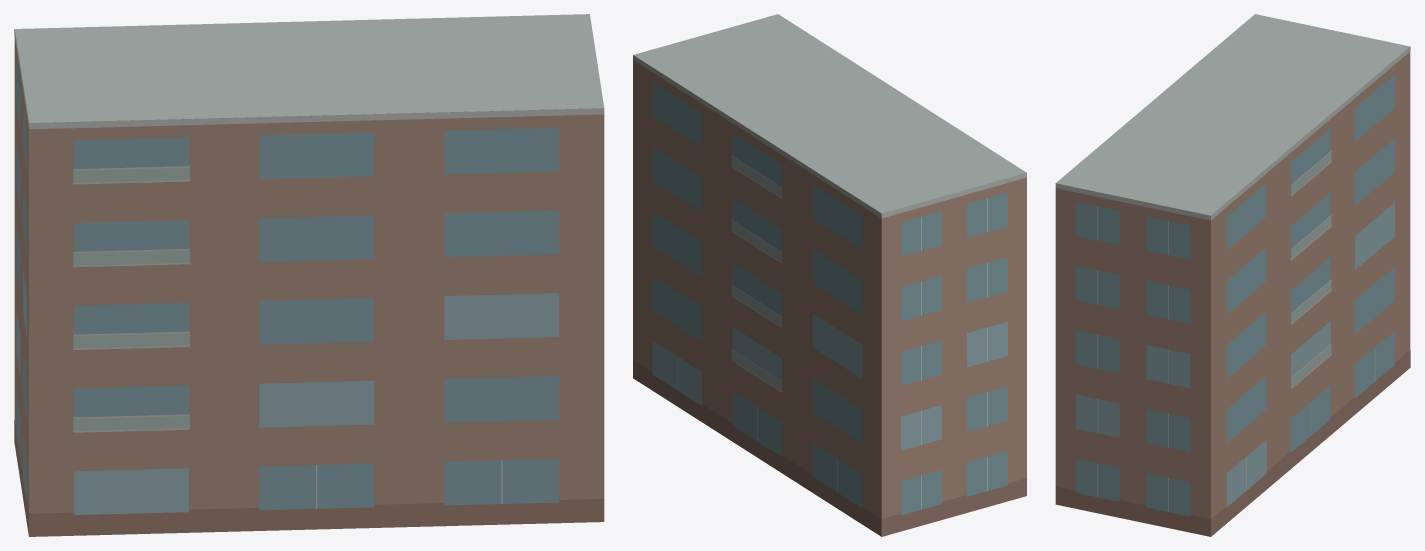
The model's file is survey-upis-32891666.glb.
3 views of the same model, side by side, from view 1: azimuth 30°, elevation 25°; view 2: azimuth 150°, elevation 25°; view 3: azimuth 270°, elevation 25° (orthographic). The views are drawn at different scales.
Visible parts, largest first — view 1: survey-upis-32891666.tmp; view 2: survey-upis-32891666.tmp; view 3: survey-upis-32891666.tmp.
Boxes of the visible parts, left/top/right/bottom form: survey-upis-32891666.tmp: left=14, top=14, right=604, bottom=536; survey-upis-32891666.tmp: left=633, top=14, right=1026, bottom=536; survey-upis-32891666.tmp: left=1055, top=14, right=1410, bottom=536.
Size of the model in its own units: 21.69 by 16.1 by 16.13.
